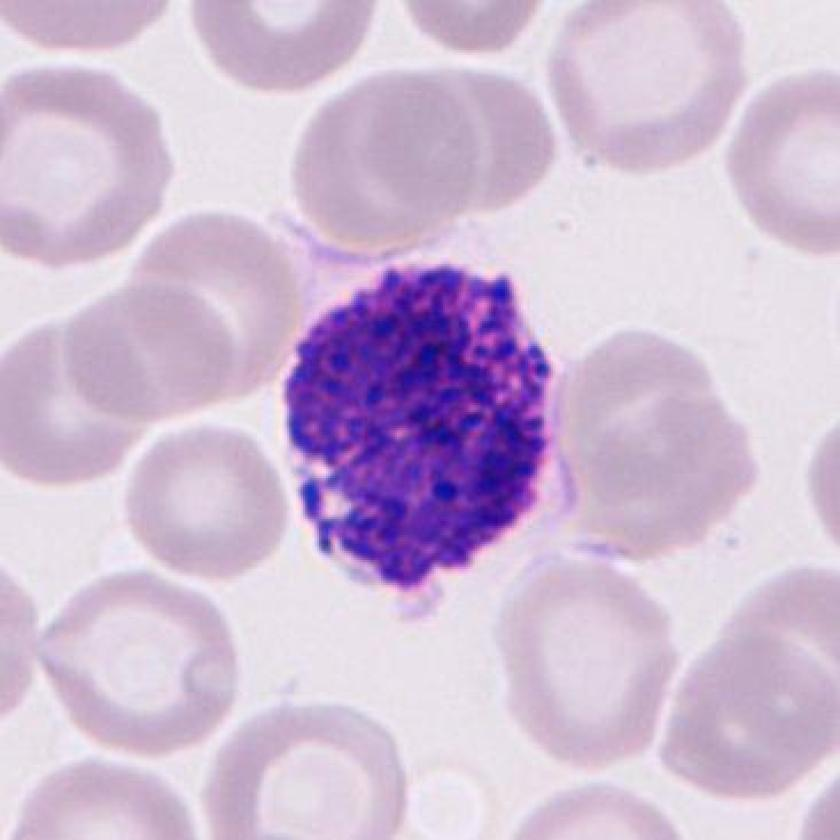basophil: (281, 265, 561, 607)
